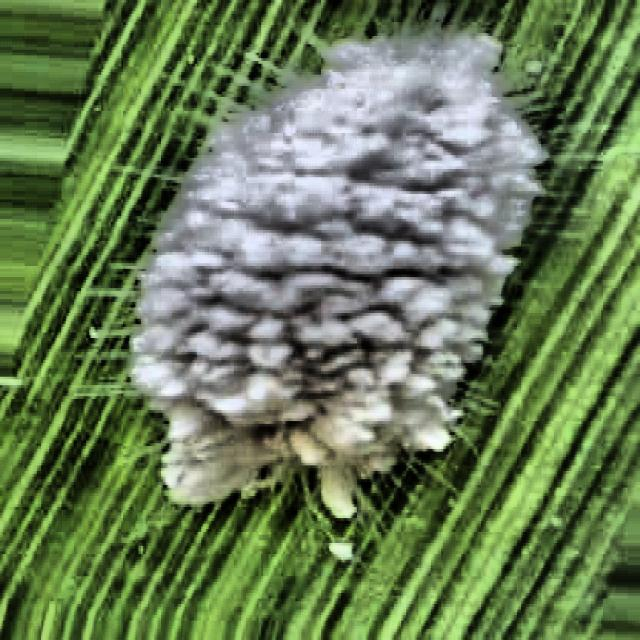Mealy-bug: (78, 2, 574, 587)
